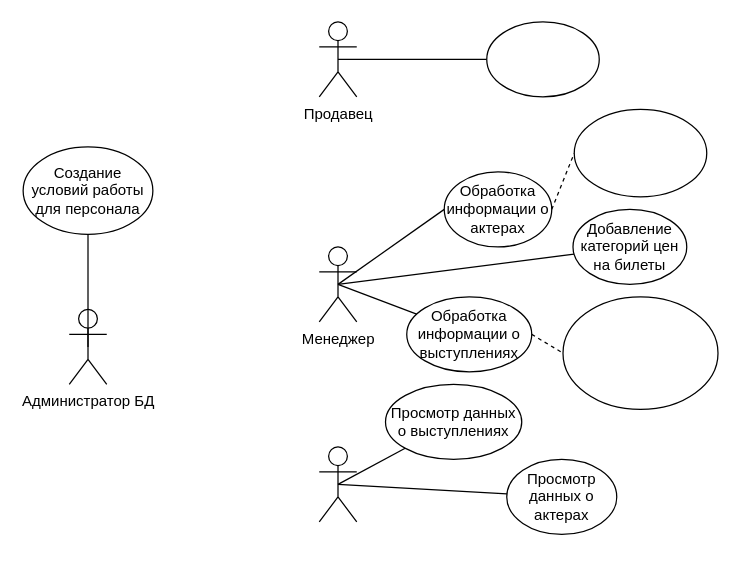
This 740x570 diagram has some shape labels left out. Here are the shapes that lost their labels. From the top down, the centre of each, then its label:
At (x=542, y=59): "Изменение статуса билета".
At (x=640, y=152): "Добавление/удаление контрактов актеров".
At (x=640, y=352): "Добавление/удаление спектаклей в список выступлений".
At (x=337, y=484): "Руководитель".
